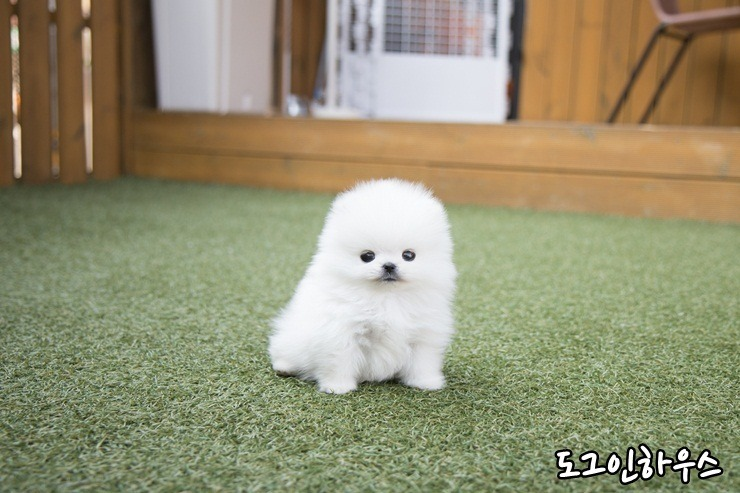pomeranian: (265, 170, 478, 404)
